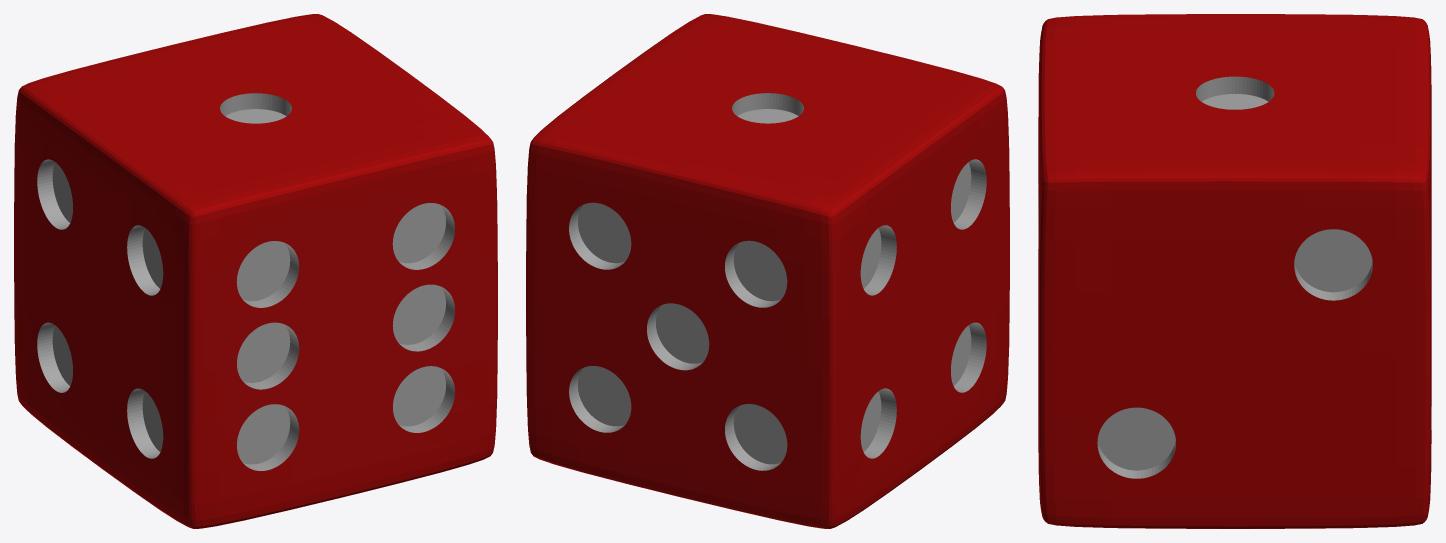
File: dice2.obj
3 views of the same model, side by side, from view 1: azimuth 30°, elevation 25°; view 2: azimuth 150°, elevation 25°; view 3: azimuth 270°, elevation 25° (orthographic). The views are drawn at different scales.
Parts seen in each view (by area): view 1: Cube_Cube.001; view 2: Cube_Cube.001; view 3: Cube_Cube.001.
Boxes of the visible parts, x1=… form: Cube_Cube.001: x1=14, y1=14, x2=497, y2=528; Cube_Cube.001: x1=526, y1=14, x2=1009, y2=528; Cube_Cube.001: x1=1038, y1=14, x2=1431, y2=528.
Size of the model in its own units: 2 by 2 by 2.
